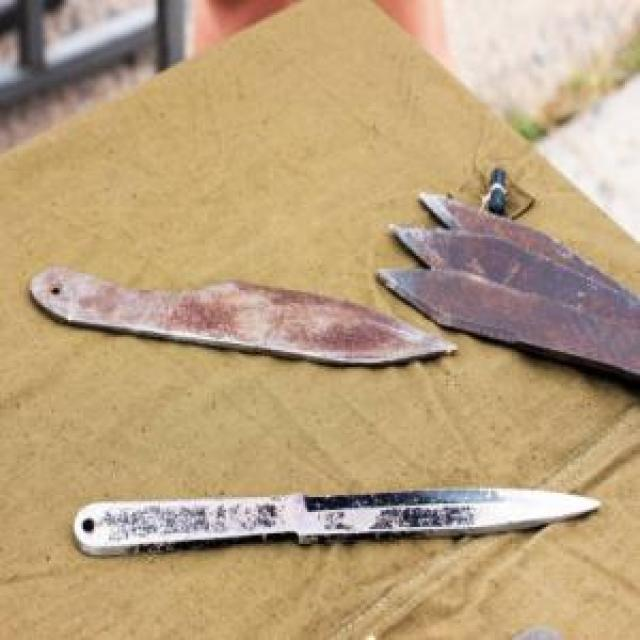knife: (23, 262, 456, 372), (81, 486, 602, 559), (373, 262, 638, 378), (395, 226, 639, 332), (416, 190, 639, 297)
